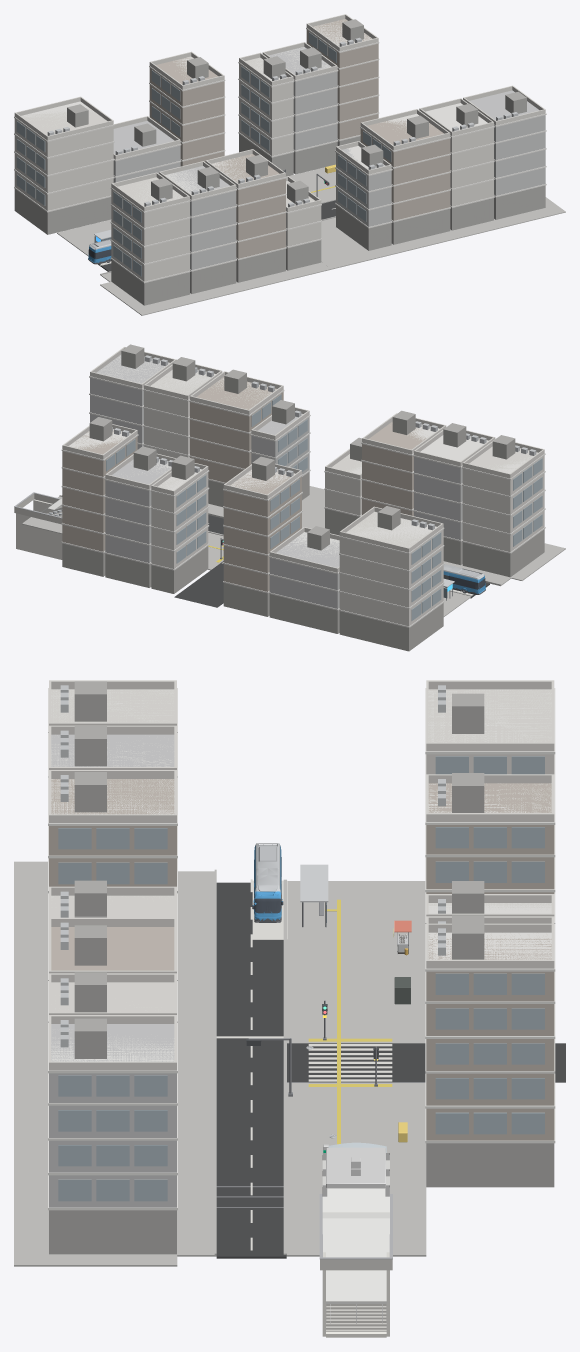
The model's file is Z1_GROUND.glb.
3 renders of one model, top to bottom at view 1: azimuth 30°, elevation 25°; view 2: azimuth 150°, elevation 25°; view 3: azimuth 270°, elevation 25°, orthographic. The views are drawn at different scales.
Parts seen in each view (by area): view 1: Z1_hq_bldwallA, Z1_hq_bldwallC, Z1_hq_bldwallB, Z1_hq_bldbase, Z1_hq_bldslab, Z1_hq_bldpara, Z1_hq_bldglass, Z1_hq_swalk_s, Z1_hq_bldroof, Z1_hq_bldac, Z1_sidewalk_E, Z1_sidewalk_W (+1 smaller); view 2: Z1_hq_bldwallA, Z1_hq_bldwallC, Z1_hq_bldwallB, Z1_hq_bldslab, Z1_hq_bldbase, Z1_hq_bldpara, Z1_hq_bldglass, Z1_hq_bldroof, Z1_hq_swalk_s, Z1_st_wall, Z1_hq_bldac, Z1_sidest_far (+3 smaller); view 3: Z1_hq_bldglass, Z1_hq_swalk_s, Z1_hq_bldwallC, Z1_road, Z1_hq_bldpara, Z1_hq_bldslab, Z1_sidewalk_W, Z1_sidewalk_E, Z1_hq_bldwallB, Z1_hq_bldroof, Z1_hq_bldwallA, Z1_hq_bldbase (+13 smaller).
Part boxes in pixels (x1=…): Z1_hq_bldwallA: x1=14, y1=57, x2=493, y2=281; Z1_hq_bldwallC: x1=149, y1=19, x2=450, y2=258; Z1_hq_bldwallB: x1=113, y1=47, x2=545, y2=269; Z1_hq_bldbase: x1=14, y1=134, x2=545, y2=305; Z1_hq_bldslab: x1=14, y1=20, x2=546, y2=283; Z1_hq_bldpara: x1=14, y1=14, x2=545, y2=211; Z1_hq_bldglass: x1=16, y1=32, x2=391, y2=276; Z1_hq_swalk_s: x1=100, y1=197, x2=565, y2=315; Z1_hq_bldroof: x1=67, y1=19, x2=526, y2=203; Z1_hq_bldac: x1=47, y1=37, x2=518, y2=207; Z1_sidewalk_E: x1=289, y1=167, x2=335, y2=203; Z1_sidewalk_W: x1=57, y1=219, x2=111, y2=256; Z1_hq_bldwallA: x1=144, y1=370, x2=544, y2=626; Z1_hq_bldwallC: x1=62, y1=377, x2=426, y2=591; Z1_hq_bldwallB: x1=90, y1=354, x2=462, y2=608; Z1_hq_bldslab: x1=61, y1=355, x2=545, y2=627; Z1_hq_bldbase: x1=62, y1=472, x2=544, y2=651; Z1_hq_bldpara: x1=62, y1=347, x2=544, y2=572; Z1_hq_bldglass: x1=106, y1=394, x2=542, y2=620; Z1_hq_bldroof: x1=89, y1=344, x2=515, y2=550; Z1_hq_swalk_s: x1=208, y1=486, x2=565, y2=586; Z1_st_wall: x1=16, y1=499, x2=62, y2=559; Z1_hq_bldac: x1=112, y1=355, x2=536, y2=530; Z1_sidest_far: x1=174, y1=569, x2=223, y2=607; Z1_hq_bldglass: x1=58, y1=756, x2=544, y2=1201; Z1_hq_swalk_s: x1=14, y1=861, x2=216, y2=1266; Z1_hq_bldwallC: x1=49, y1=779, x2=554, y2=1140; Z1_road: x1=216, y1=882, x2=286, y2=1258; Z1_hq_bldpara: x1=49, y1=680, x2=554, y2=1070; Z1_hq_bldslab: x1=48, y1=688, x2=555, y2=1210; Z1_sidewalk_W: x1=287, y1=881, x2=425, y2=1043; Z1_sidewalk_E: x1=286, y1=1083, x2=426, y2=1256; Z1_hq_bldwallB: x1=49, y1=734, x2=176, y2=1207; Z1_hq_bldroof: x1=74, y1=681, x2=484, y2=1058; Z1_hq_bldwallA: x1=51, y1=689, x2=554, y2=1012; Z1_hq_bldbase: x1=49, y1=1143, x2=554, y2=1254.
Size of the model in its own units: 83.13 by 29.91 by 47.4.
